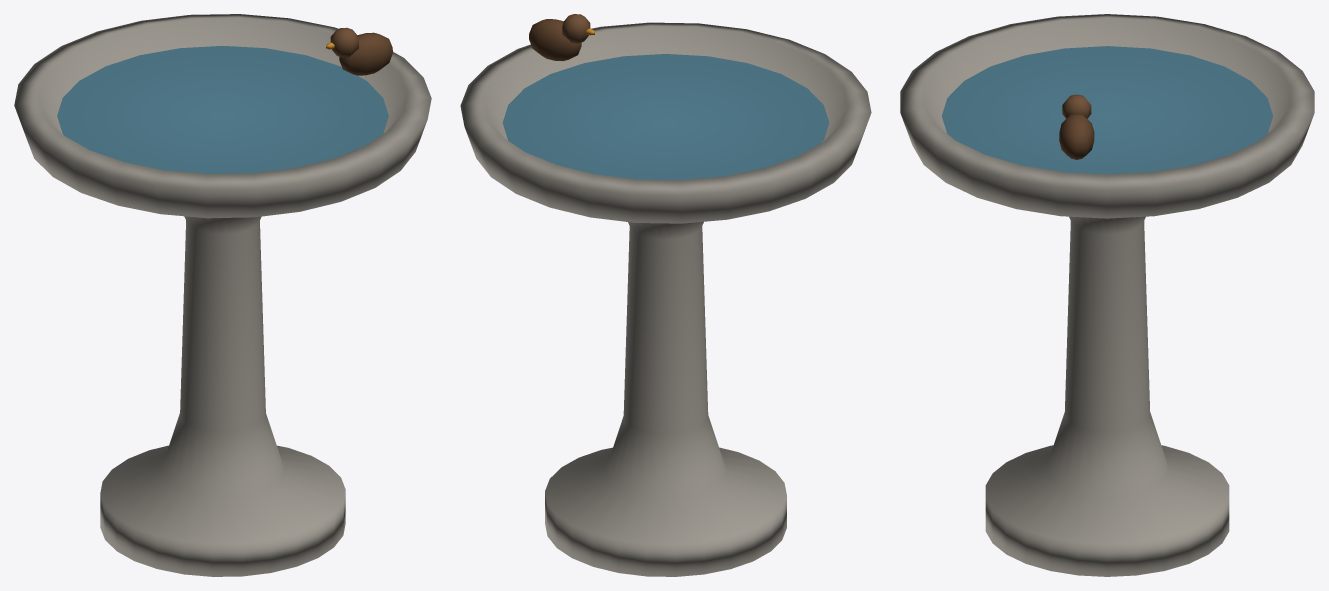
Rendered from garden_birdbath.glb.
3 views of the same model, side by side, from view 1: azimuth 30°, elevation 25°; view 2: azimuth 150°, elevation 25°; view 3: azimuth 270°, elevation 25° (orthographic).
Visible parts, largest first — view 1: garden_birdbath; view 2: garden_birdbath; view 3: garden_birdbath.
Boxes of the visible parts, <box> form: garden_birdbath: <box>14,14,431,576</box>; garden_birdbath: <box>460,14,871,576</box>; garden_birdbath: <box>900,14,1314,576</box>.
Bounding box in the file's own units: 0.68 × 0.865 × 0.675.
